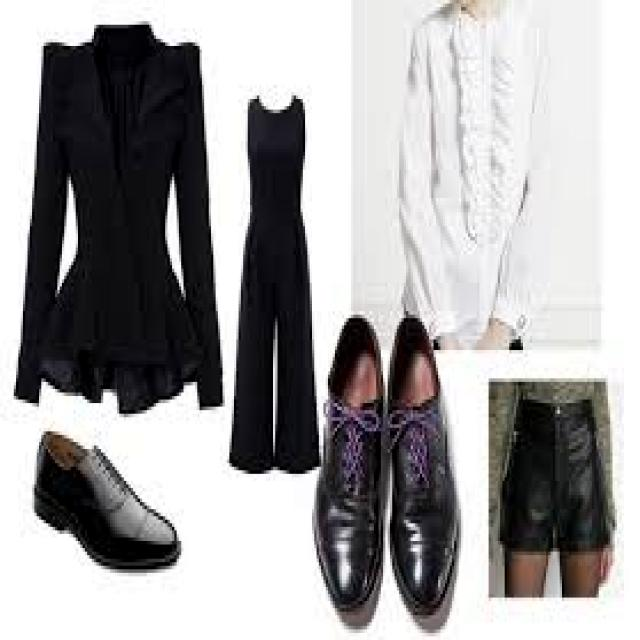dress: (17, 25, 222, 413), (230, 96, 318, 473)
foot-wear: (34, 429, 180, 579), (315, 312, 385, 614), (391, 307, 459, 617)
lower-wear: (501, 400, 610, 551)
top-wear: (17, 25, 222, 413), (400, 0, 548, 346), (489, 379, 614, 530)
